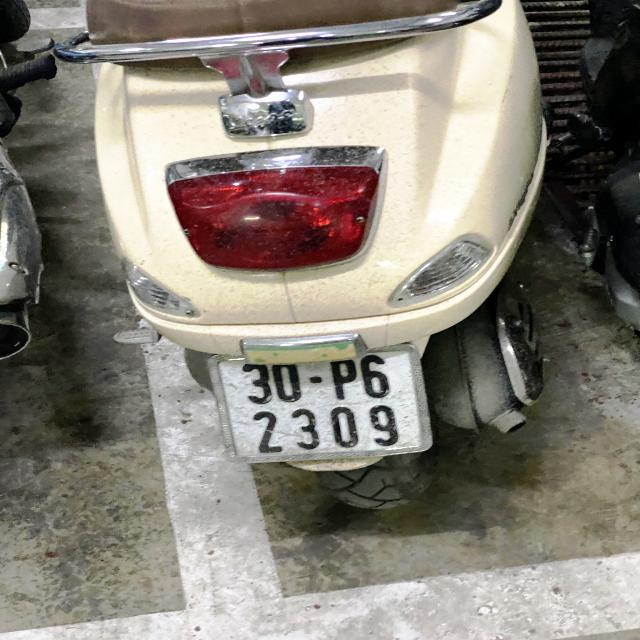license_plate: (203, 342, 436, 465)
